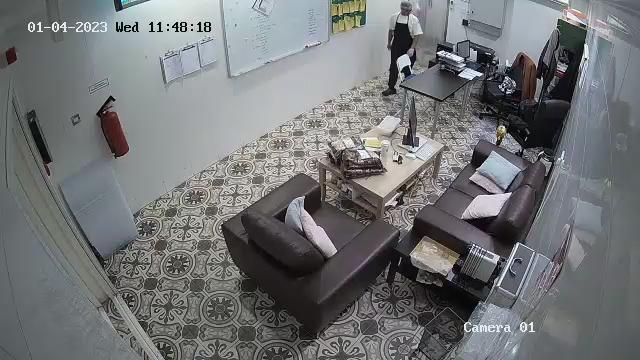apron: (389, 12, 415, 60)
